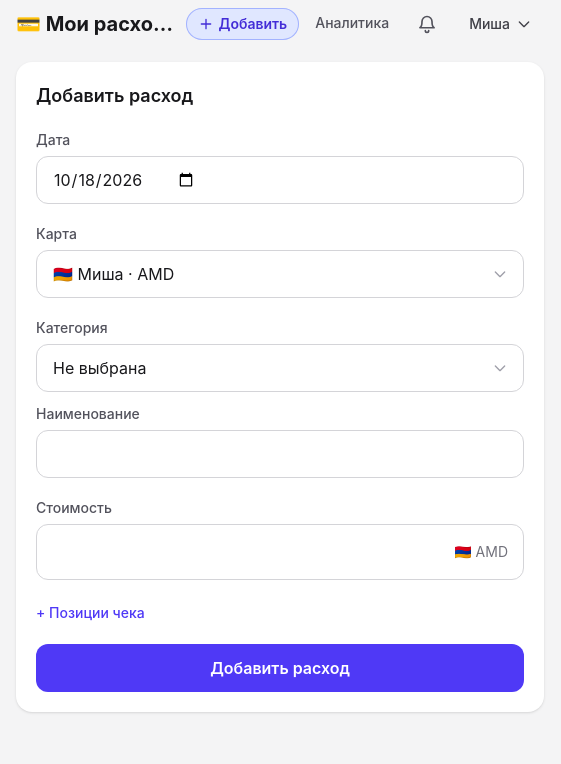
Test: позиции чека на «Добавить» › пустая открытая строка не отправляется
This screenshot has width=561, height=764.
Expected: the button "Добавить расход" is shown, [36, 644, 524, 692]
Select "кафе" in the dropdown labelled "Категория" at (280, 368), box [36, 344, 524, 392]
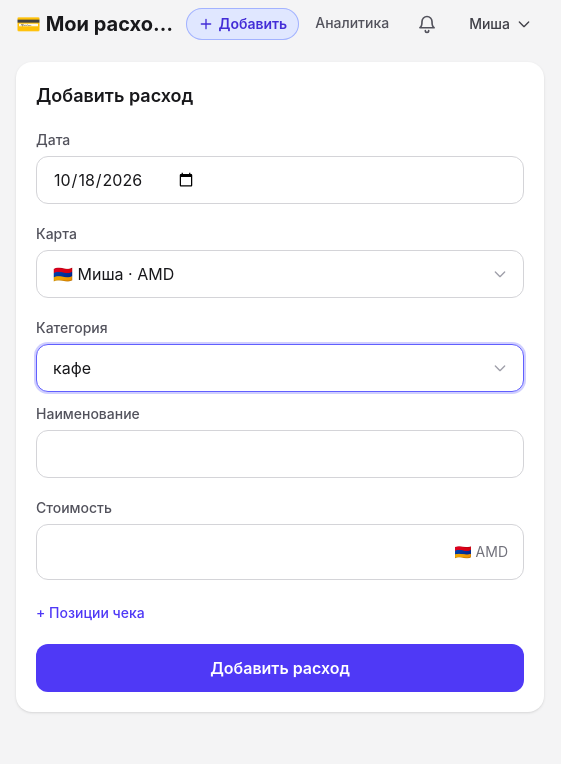
Type "Кофе" into the field labelled "Наименование" at (280, 454), box [36, 430, 524, 478]
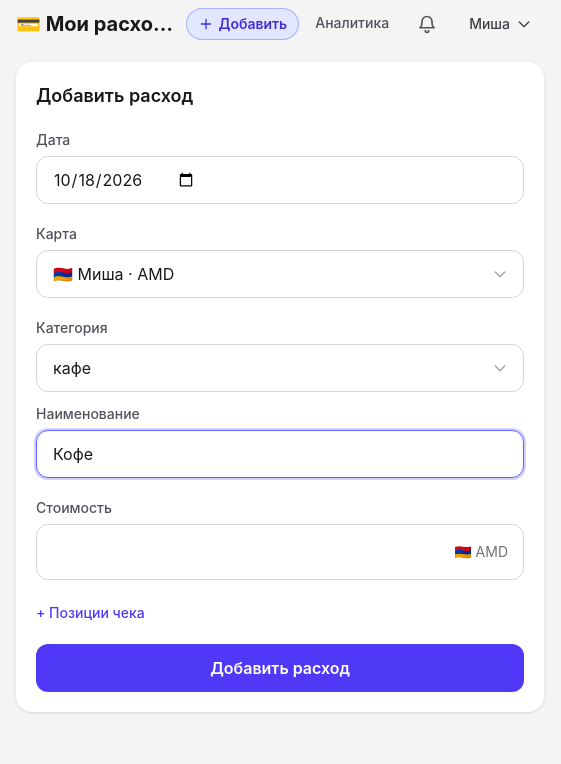
Type "1000" into the field labelled "Стоимость" at (280, 552), box [36, 524, 524, 580]
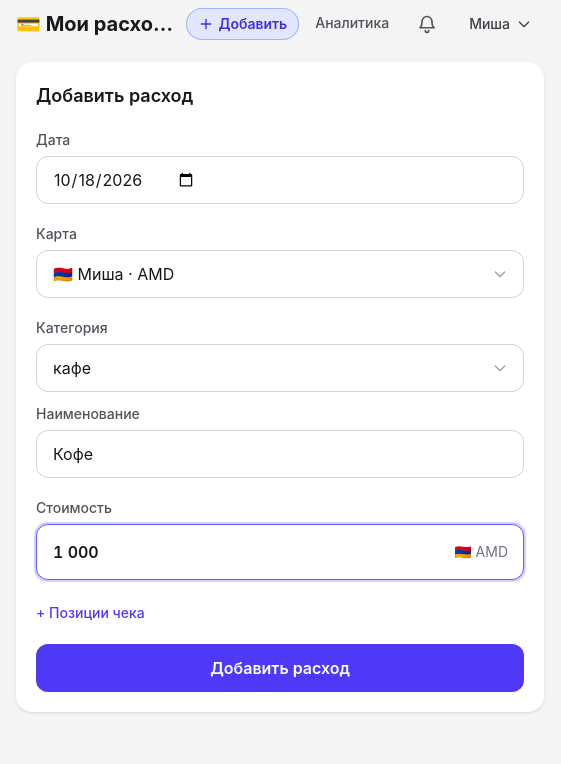
Click the button "+ Позиции чека" at (90, 613), box [36, 603, 145, 623]
(page scrolled)
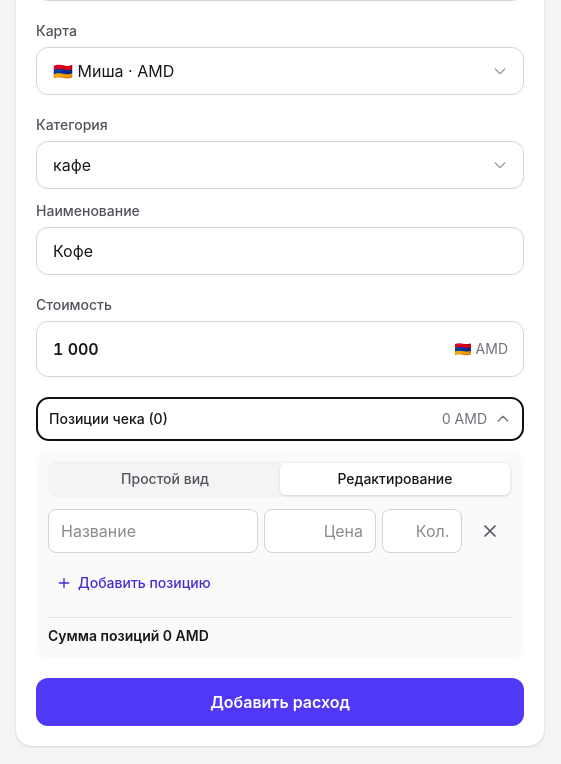
Click the button "Добавить расход" at (280, 702), box [36, 678, 524, 726]
(page scrolled)
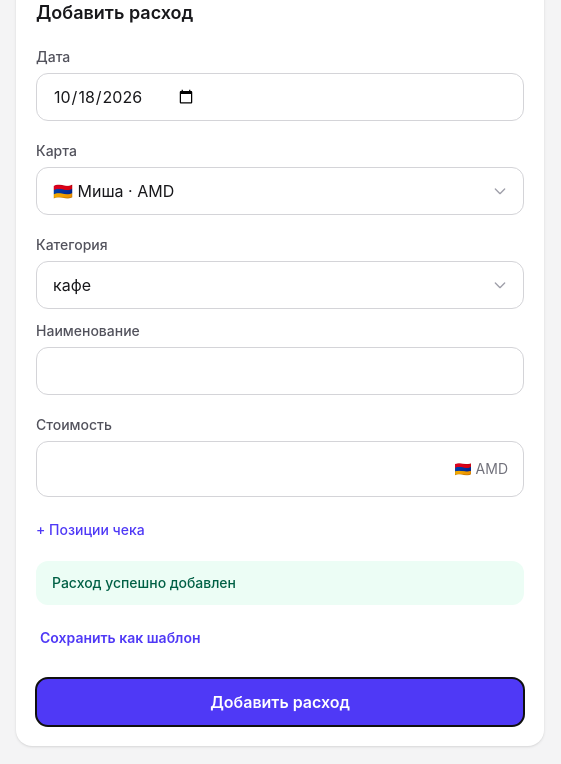
Expected: the text "Расход успешно добавлен" is shown, [36, 561, 524, 605]
